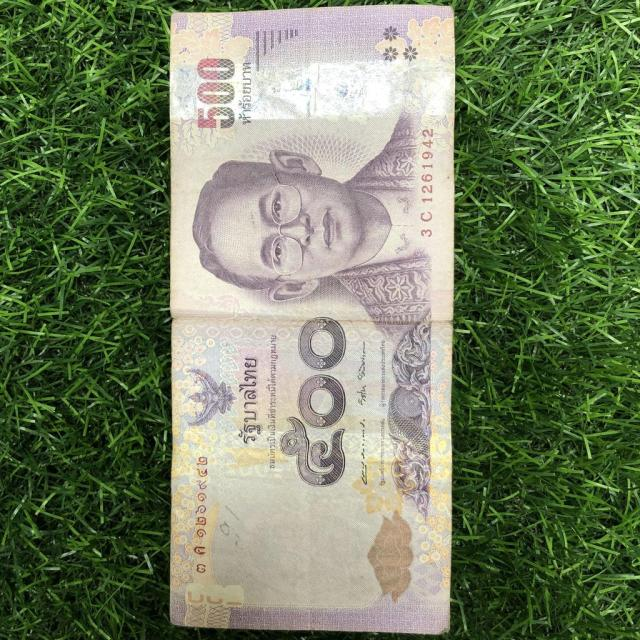THAI500: (171, 6, 452, 631)
